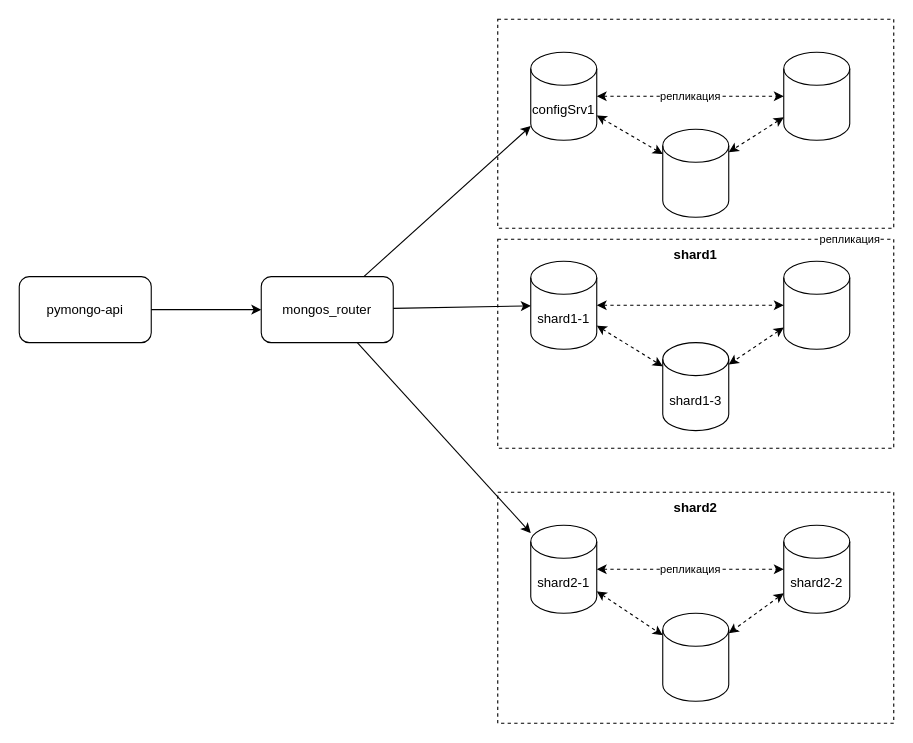
Image size: 913x743. Some labels were removed from this diagram. The shapes that lost their labels are listed below. From the top down, each one's box as (x1, y1, x2, y2) in pixels, then its label:
(783, 51, 850, 140): configSrv2
(497, 18, 894, 228): config_server
(662, 128, 729, 217): configSrv3
(783, 260, 850, 349): shard1-2
(662, 612, 729, 701): shard2-3
